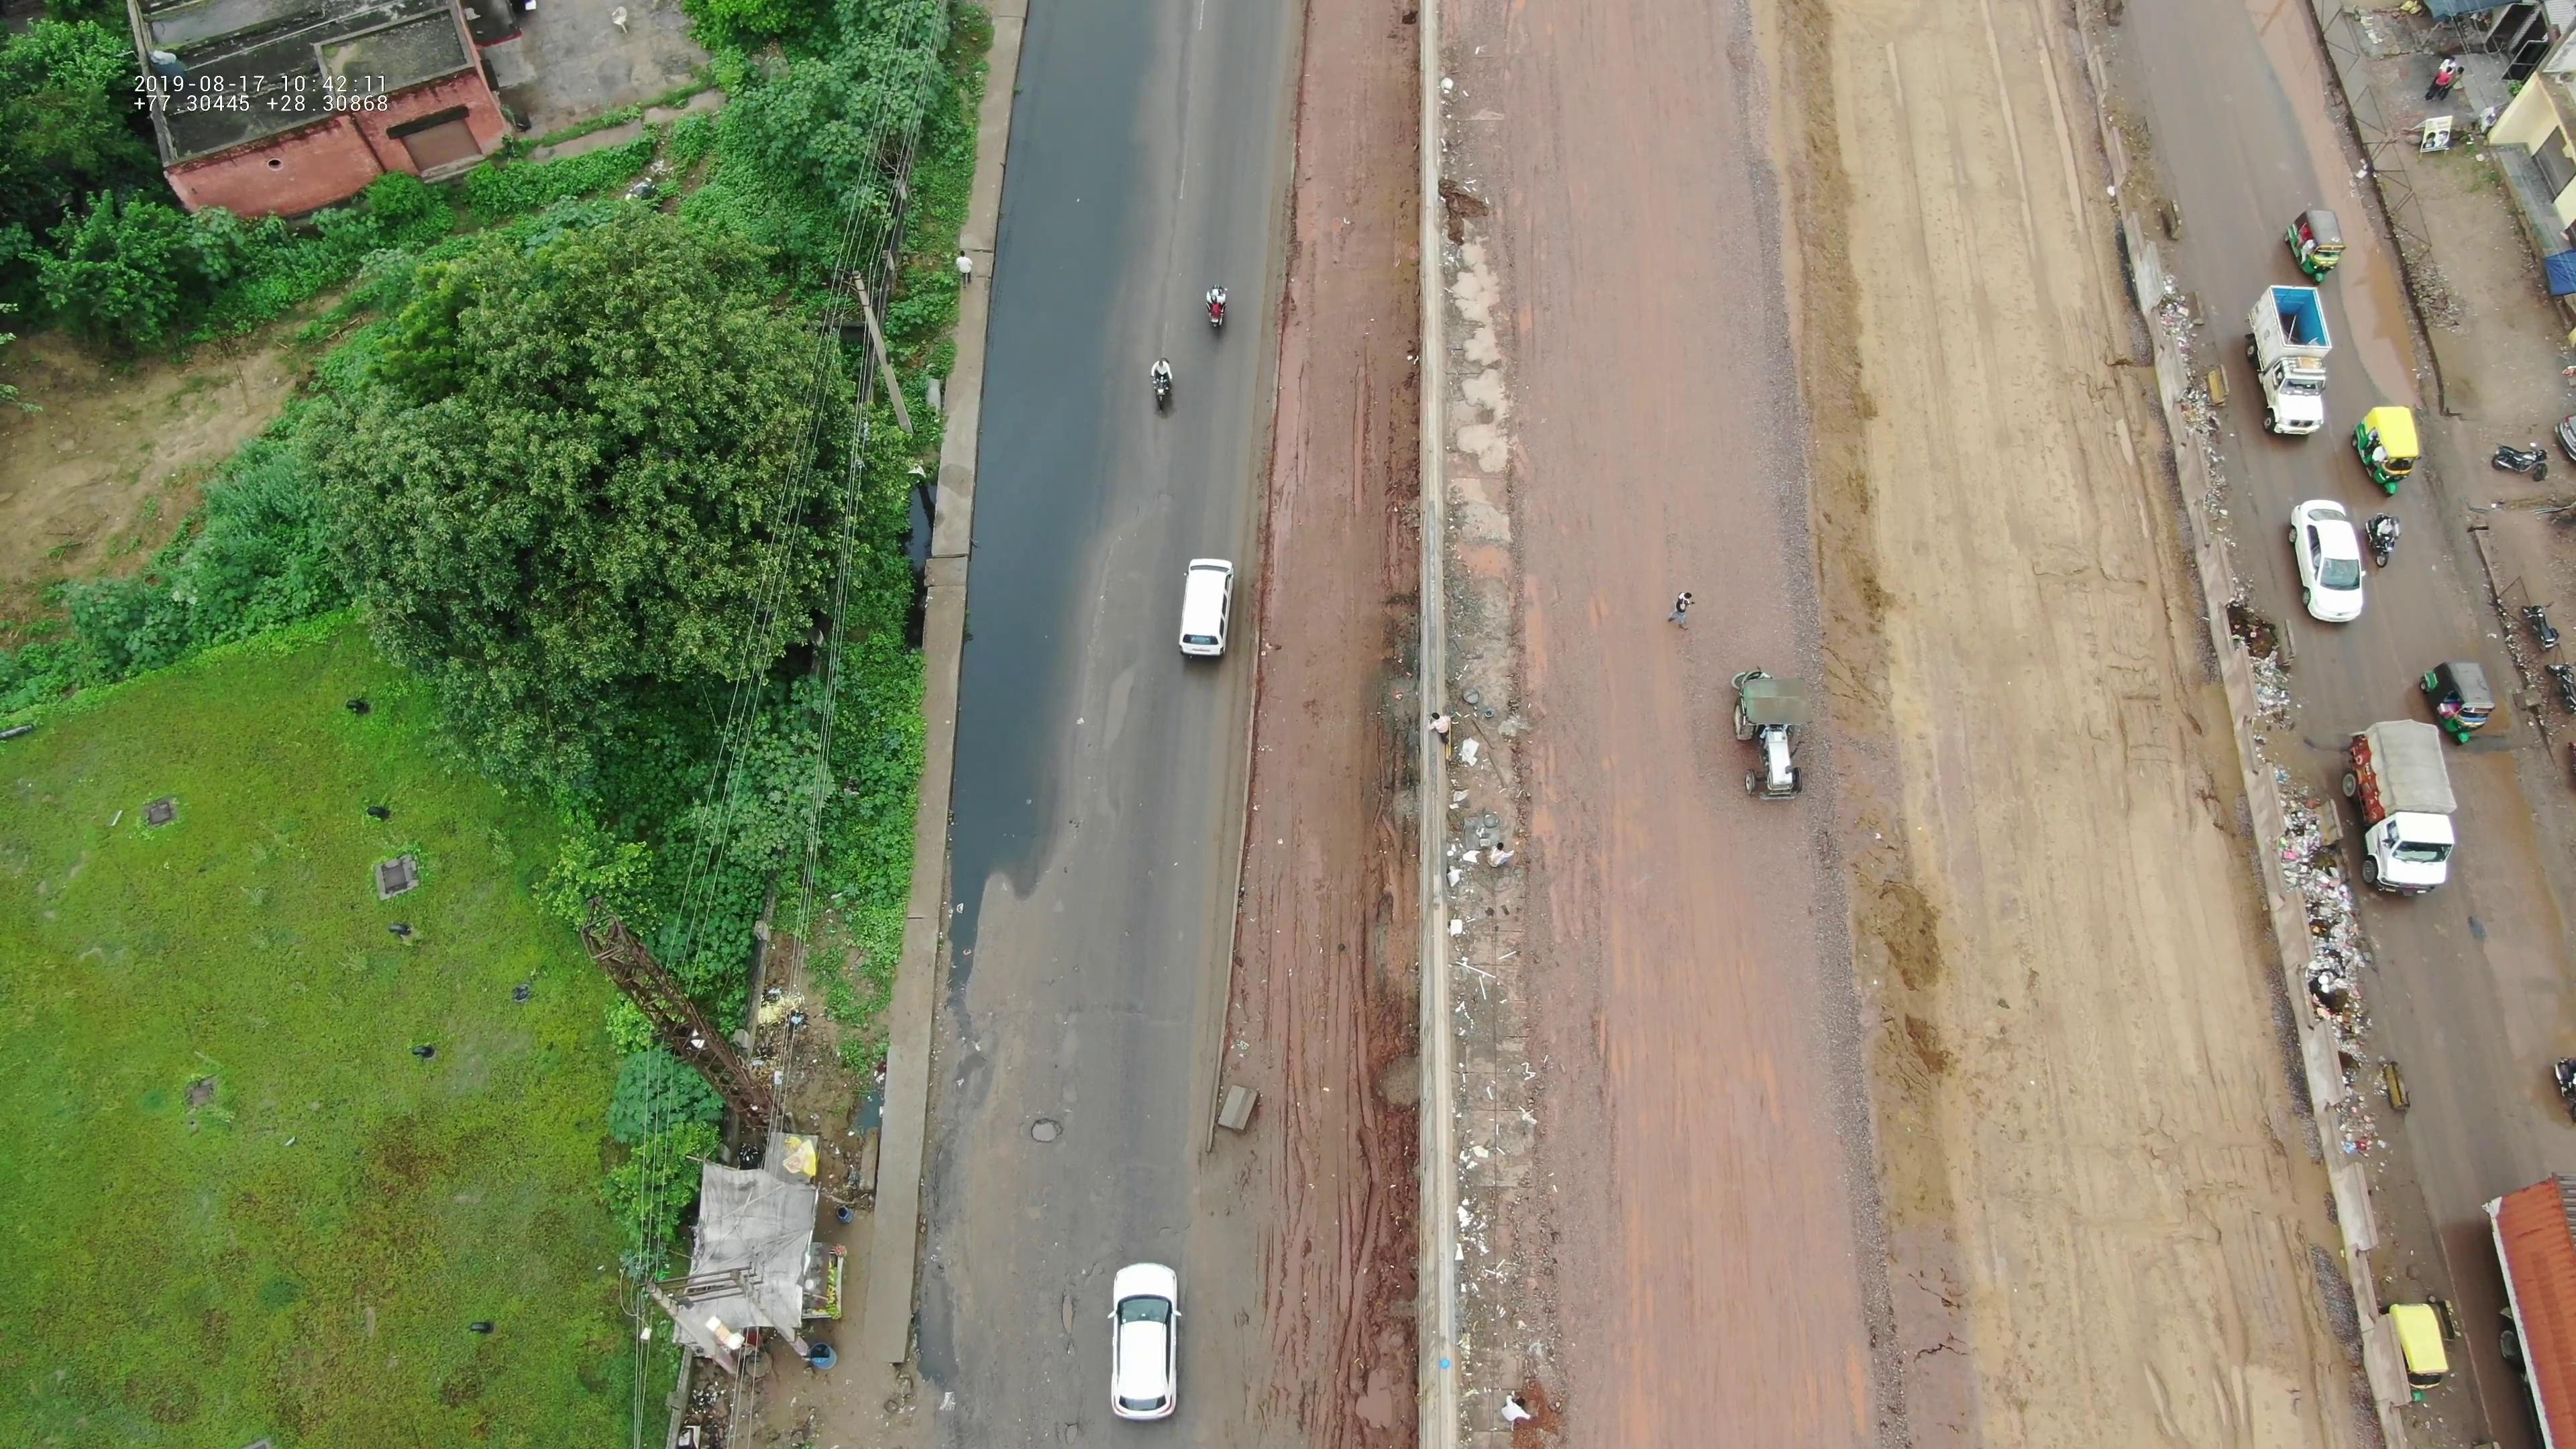Potholes: (1030, 1260, 1104, 1444), (1081, 648, 1141, 791), (1012, 1083, 1072, 1177)
